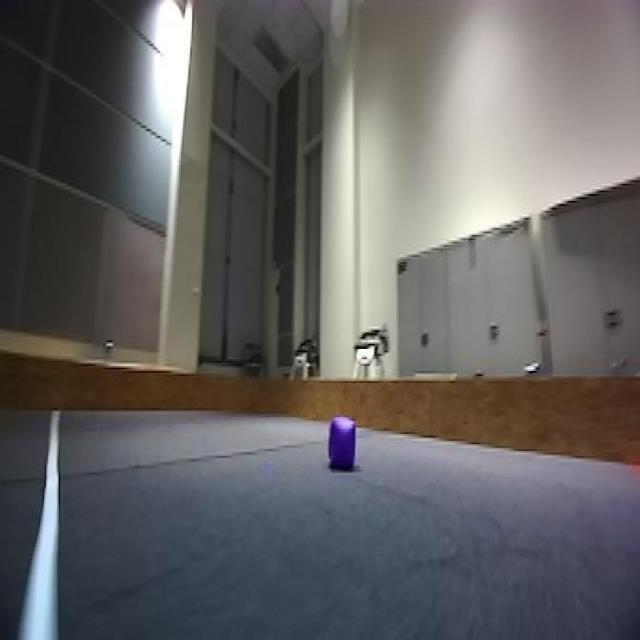frc_cube: (325, 416, 359, 474)
